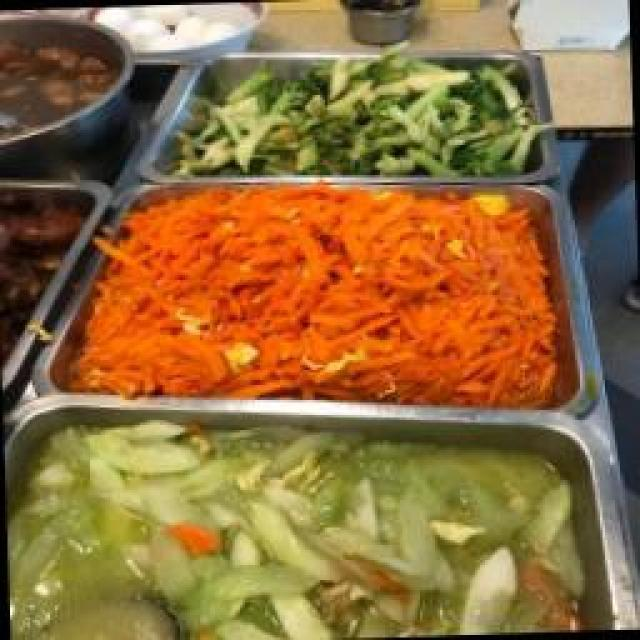carrot_eggs: (133, 192, 523, 400)
